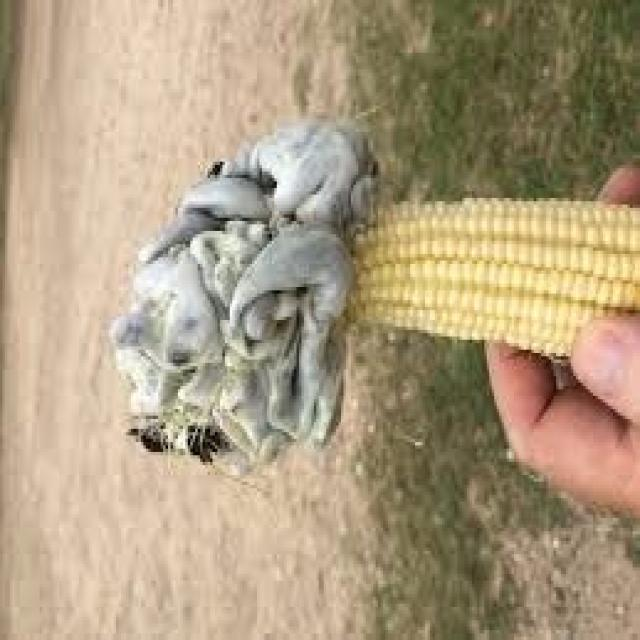Leaf_Scald: (54, 68, 494, 537)
